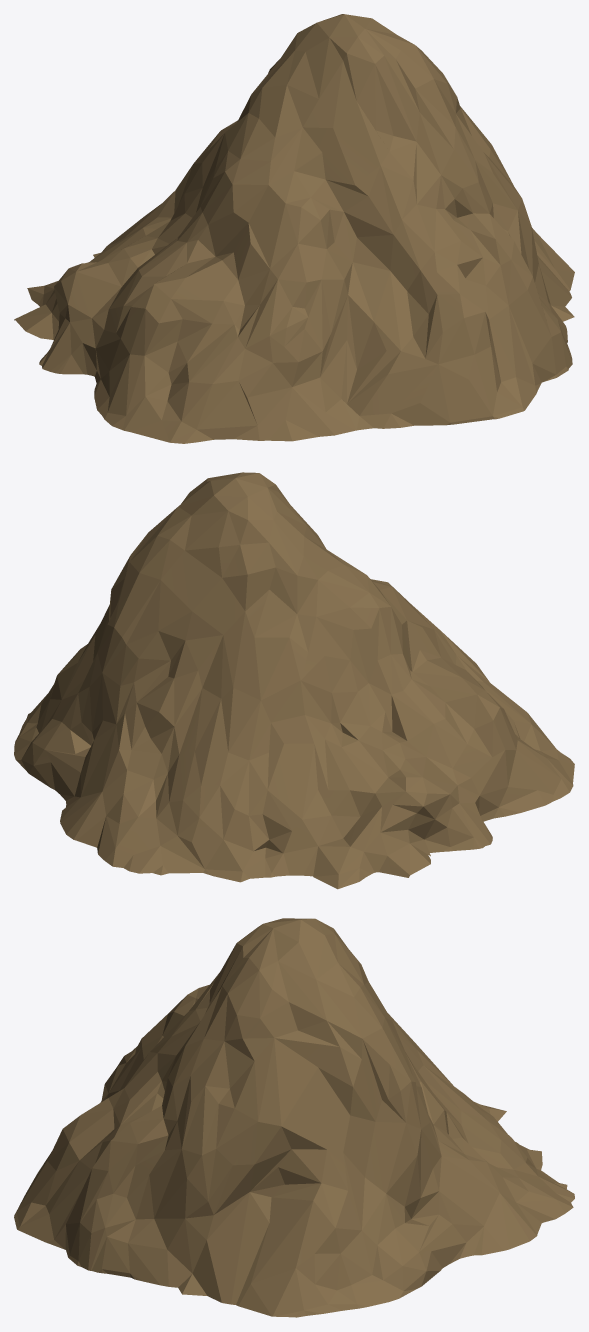
Rendered from mnt.gltf.
3 renders of one model, top to bottom at view 1: azimuth 30°, elevation 25°; view 2: azimuth 150°, elevation 25°; view 3: azimuth 270°, elevation 25°, orthographic. The views are drawn at different scales.
Parts seen in each view (by area): view 1: node_Mountain3_-1129440; view 2: node_Mountain3_-1129440; view 3: node_Mountain3_-1129440.
Part boxes in pixels (x1,y1,x2,y2): node_Mountain3_-1129440: [14, 14, 574, 443]; node_Mountain3_-1129440: [14, 472, 574, 889]; node_Mountain3_-1129440: [14, 918, 574, 1317].
Bounding box in the file's own units: 108 × 61.42 × 106.
